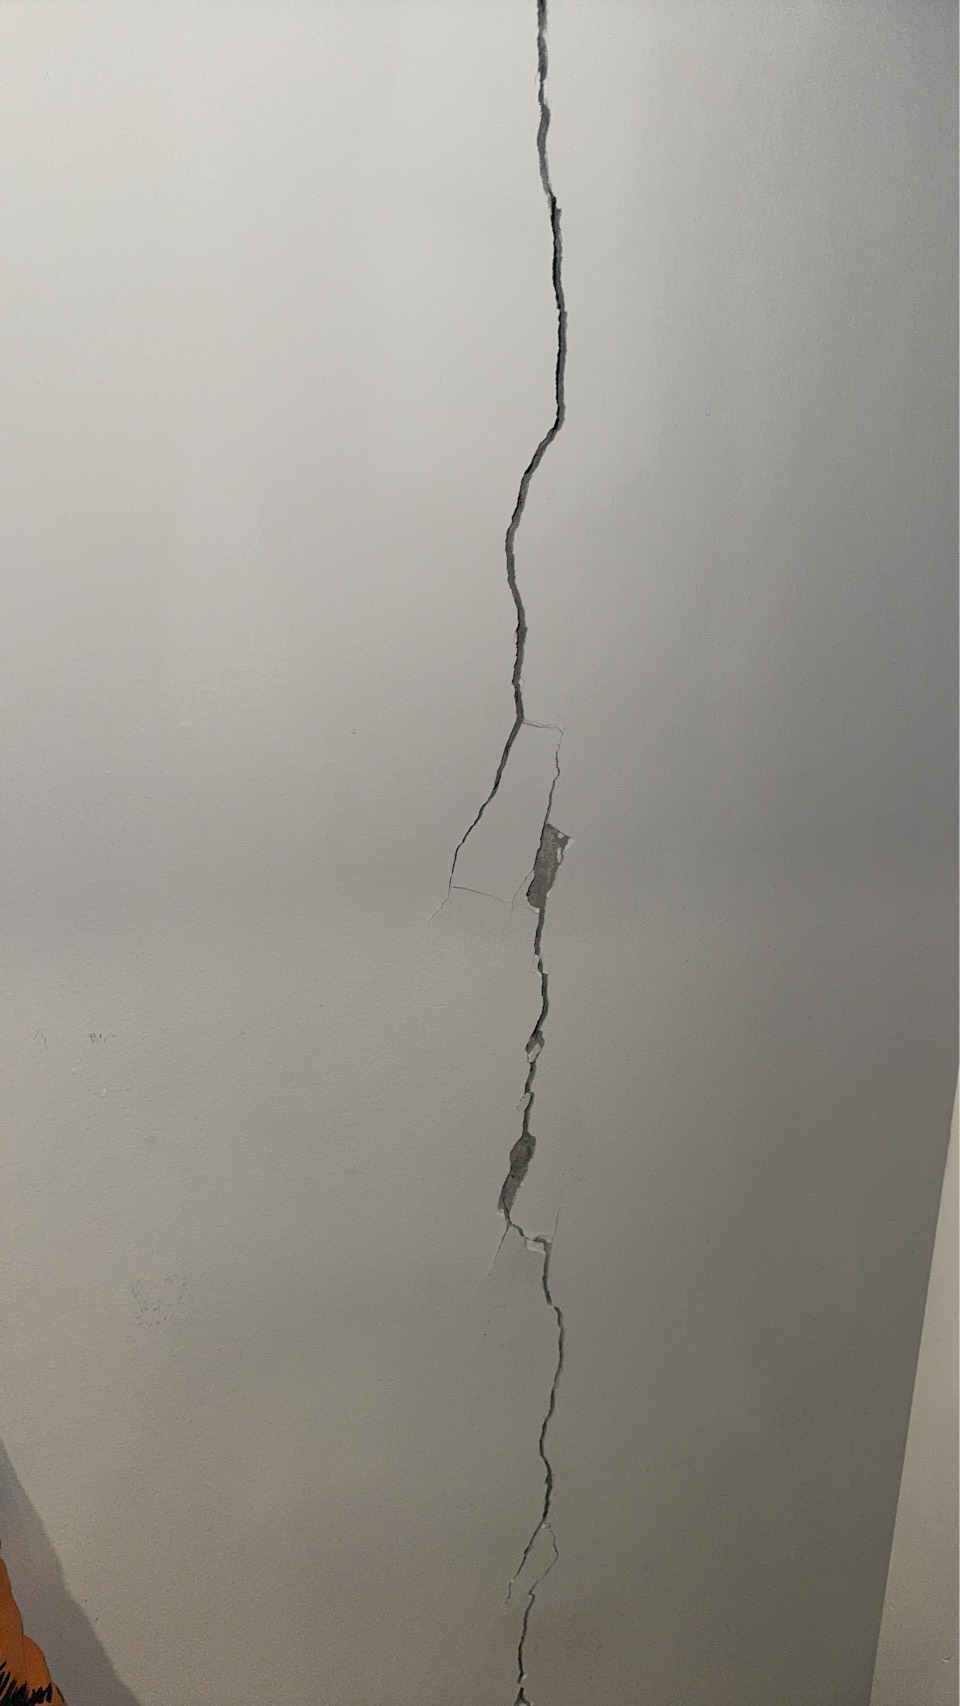Low: (425, 2, 686, 1706)
